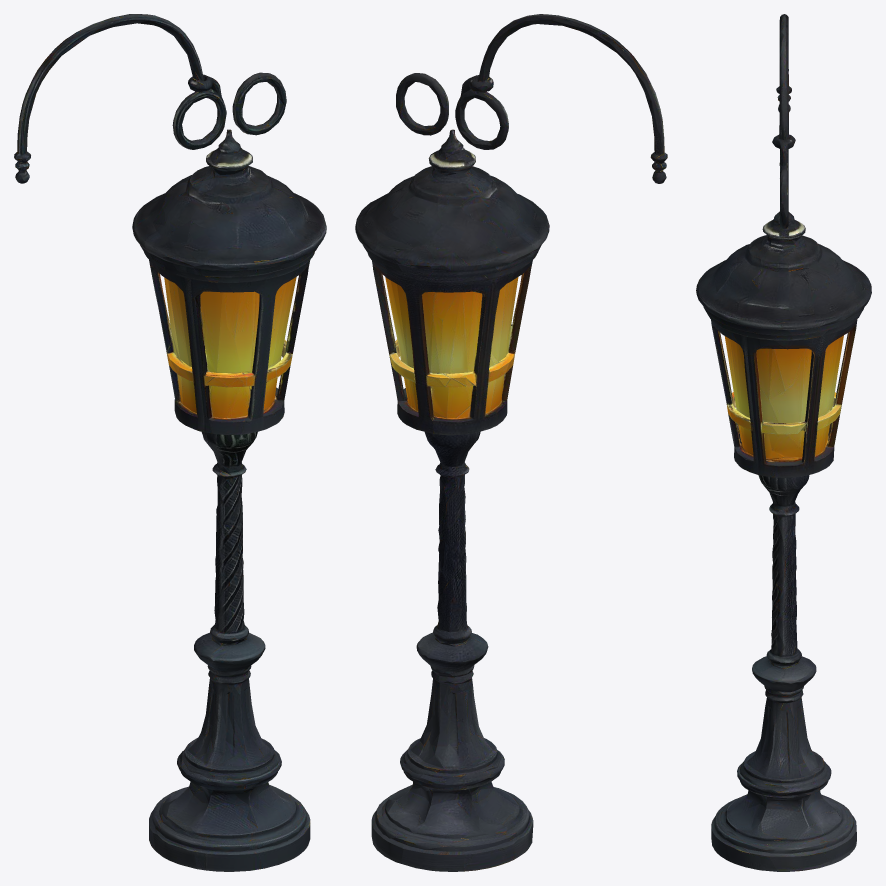
The model's file is lamp.glb.
The picture shows the model from 3 angles, left to right: view 1: azimuth 30°, elevation 25°; view 2: azimuth 150°, elevation 25°; view 3: azimuth 270°, elevation 25°; orthographic projection. The views are drawn at different scales.
Size of the model in its own units: 0.6997 by 1.9 by 0.3952.
Materials: 1 (1 with a texture image).
